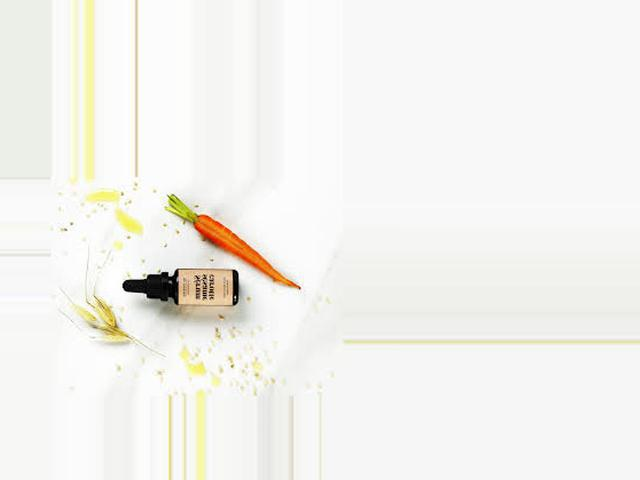carrot: (187, 207, 309, 303)
